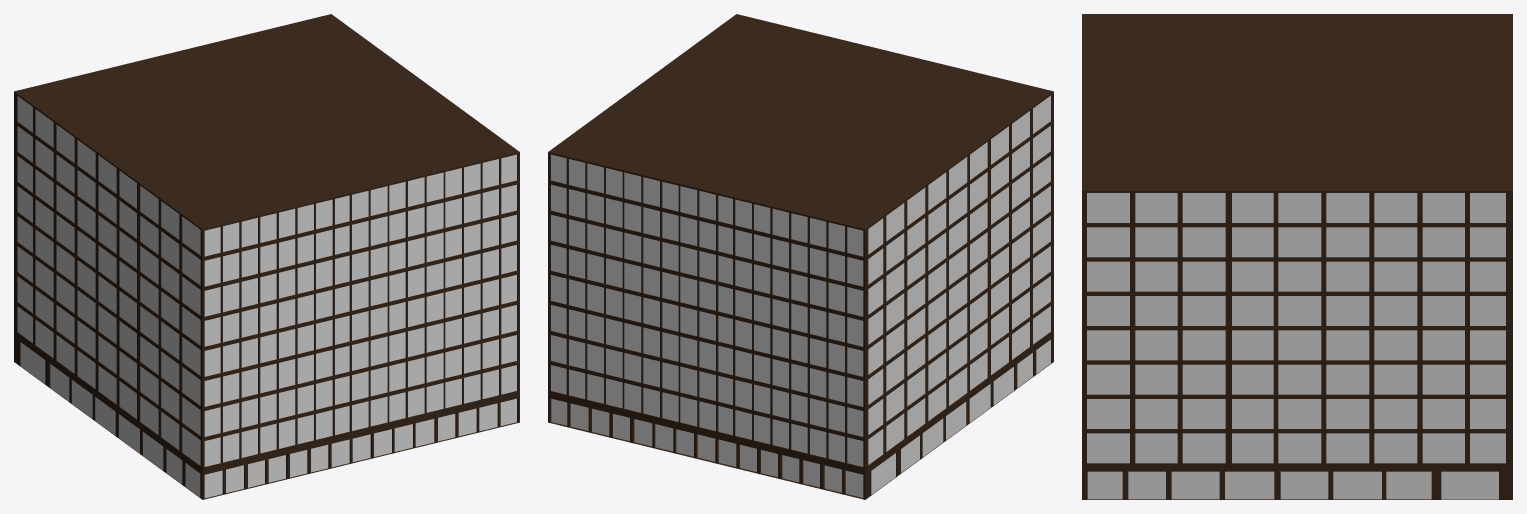
File: building7.fbx
3 renders of one model, left to right at view 1: azimuth 30°, elevation 25°; view 2: azimuth 150°, elevation 25°; view 3: azimuth 270°, elevation 25°, orthographic. The views are drawn at different scales.
Visible parts, largest first — view 1: Cube.054; view 2: Cube.054; view 3: Cube.054.
Boxes of the visible parts, x1,y1,x2,y2 form: Cube.054: (14,14,519,499); Cube.054: (548,14,1053,499); Cube.054: (1082,14,1512,499).
Bounding box in the file's own units: 7556 × 6158 × 7778.
